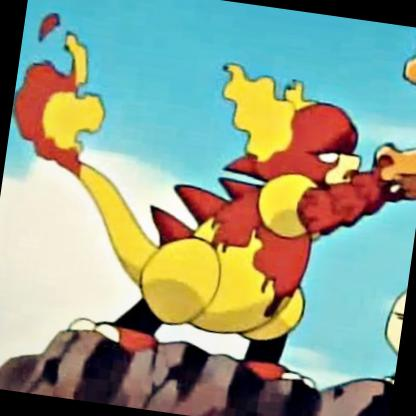Magmar: (2, 1, 416, 416)
